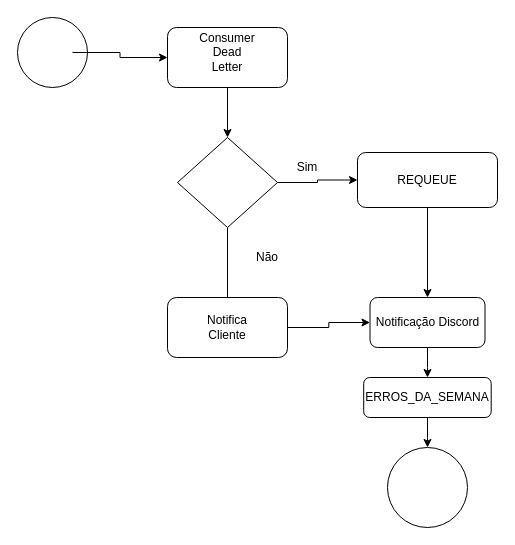
The diagram is 515 pixels wide and 545 high, and some of its shapes have lost their labels. Here are the shapes that lost their labels. From the top down, the centre of each, then its label:
At (x=52, y=52): "Inicio".
At (x=227, y=182): "msg include?".
At (x=427, y=487): "Fim".
